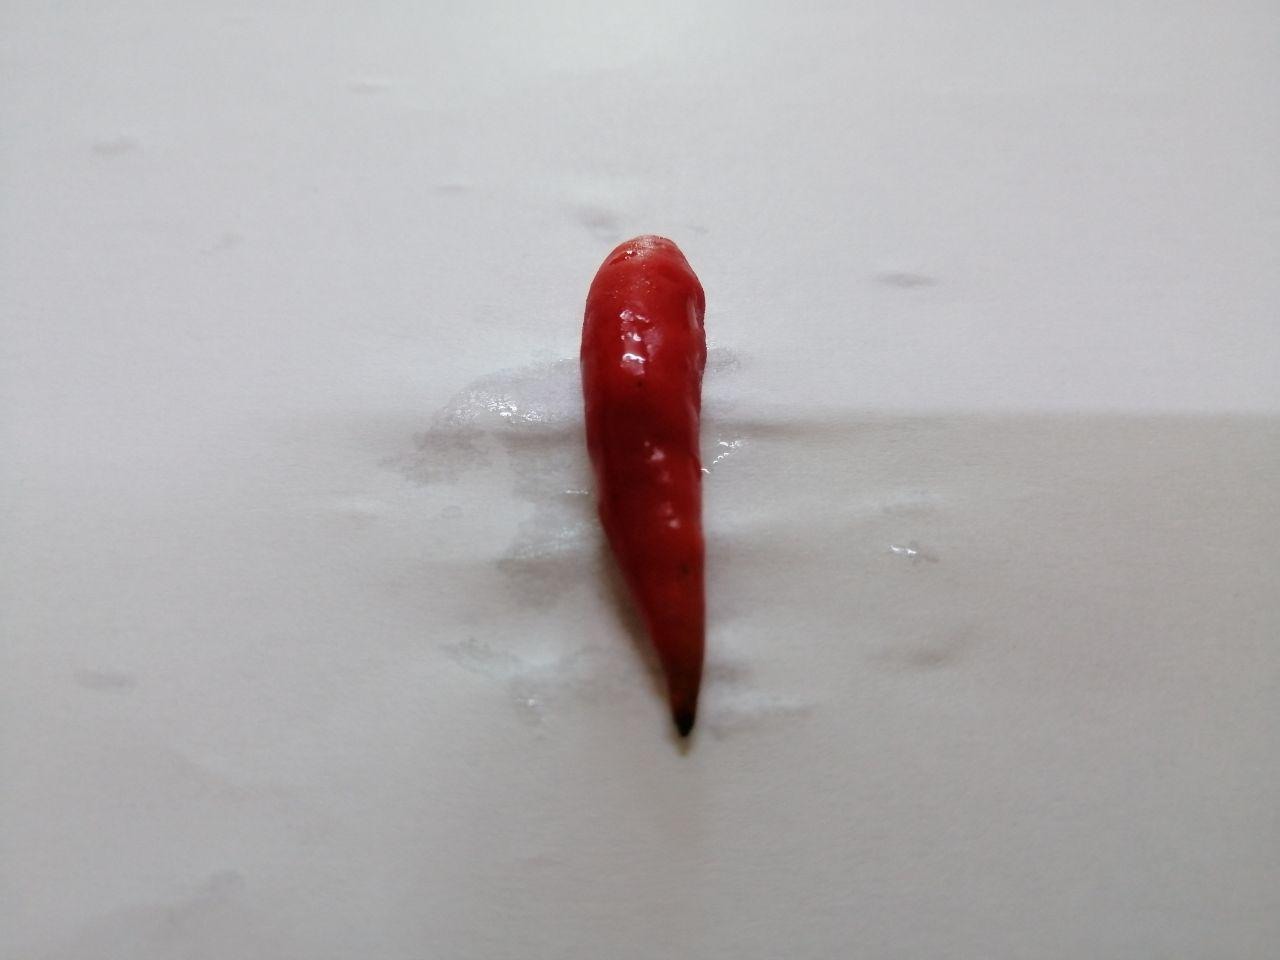lada merah: (556, 212, 760, 753)
